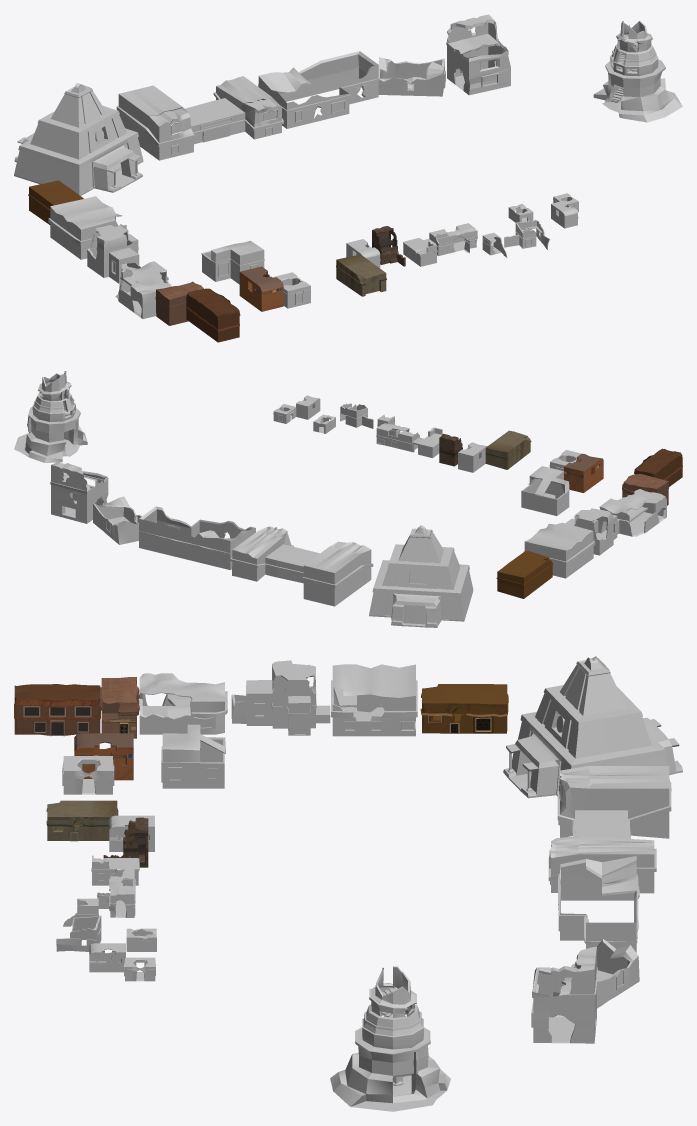
Rendered from RuinCity-Complete.fbx.
3 views of the same model, one above another, from view 1: azimuth 30°, elevation 25°; view 2: azimuth 150°, elevation 25°; view 3: azimuth 270°, elevation 25° (orthographic). The views are drawn at different scales.
Parts seen in each view (by area): view 1: MechSpawn_Outside, MechRight_Building01, MechRight_Building02, Tower, MechRight_Building04, Building02, MechRight_Building03, Building03, Building06, Building04, building07, Building08 (+10 smaller); view 2: MechSpawn_Outside, MechRight_Building01, MechRight_Building02, Tower, MechRight_Building04, Building02, Building04, Building01, building07, MechRight_Building03, Building03, Mid_Building1 (+9 smaller); view 3: MechSpawn_Outside, MechRight_Building01, Tower, Building02, MechRight_Building02, MechRight_Building04, Building03, Building04, Building06, Building01, building07, Mid_Building1 (+12 smaller).
Part boxes in pixels (x1,y1,x2,y2): MechSpawn_Outside: (14, 83, 143, 195); MechRight_Building01: (116, 76, 283, 160); MechRight_Building02: (258, 51, 379, 128); Tower: (593, 21, 682, 122); MechRight_Building04: (446, 14, 510, 95); Building02: (48, 196, 128, 259); MechRight_Building03: (378, 57, 445, 96); Building03: (87, 225, 140, 283); Building06: (186, 288, 240, 342); Building04: (115, 261, 171, 318); building07: (201, 240, 264, 284); Building08: (239, 266, 283, 311); MechSpawn_Outside: (369, 525, 473, 626); MechRight_Building01: (230, 526, 373, 606); MechRight_Building02: (139, 506, 255, 570); Tower: (14, 371, 87, 462); MechRight_Building04: (50, 462, 108, 523); Building02: (523, 522, 595, 578); Building04: (599, 489, 666, 536); Building01: (496, 550, 553, 598); building07: (521, 466, 569, 515); MechRight_Building03: (93, 496, 141, 544); Building03: (565, 508, 619, 555); Mid_Building1: (485, 430, 531, 469); MechSpawn_Outside: (503, 656, 682, 796); MechRight_Building01: (548, 766, 671, 893); Tower: (330, 966, 450, 1111); Building02: (331, 664, 417, 736); MechRight_Building02: (558, 856, 639, 952); MechRight_Building04: (531, 946, 597, 1043); Building03: (231, 660, 330, 735); Building04: (139, 673, 227, 734); Building06: (14, 684, 100, 736); Building01: (420, 684, 508, 733); building07: (161, 724, 225, 788); Mid_Building1: (46, 800, 118, 841).
Size of the model in its own units: 2636 by 364 by 1809.
